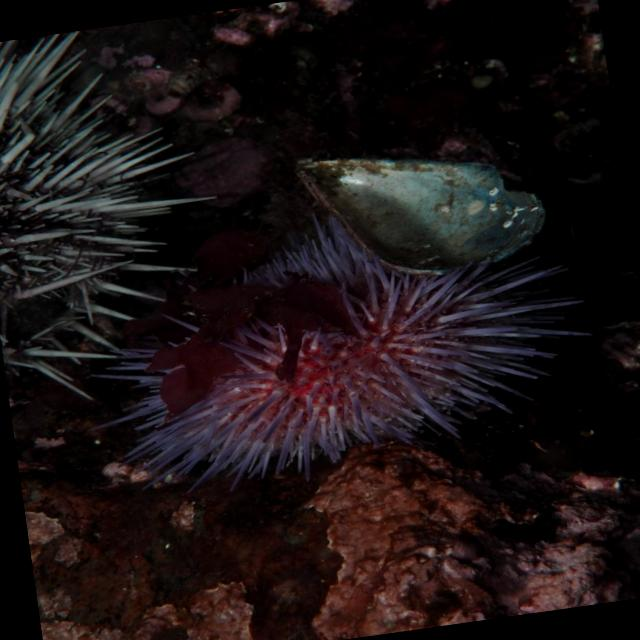Deniz Kestanesi: (62, 182, 602, 512)
